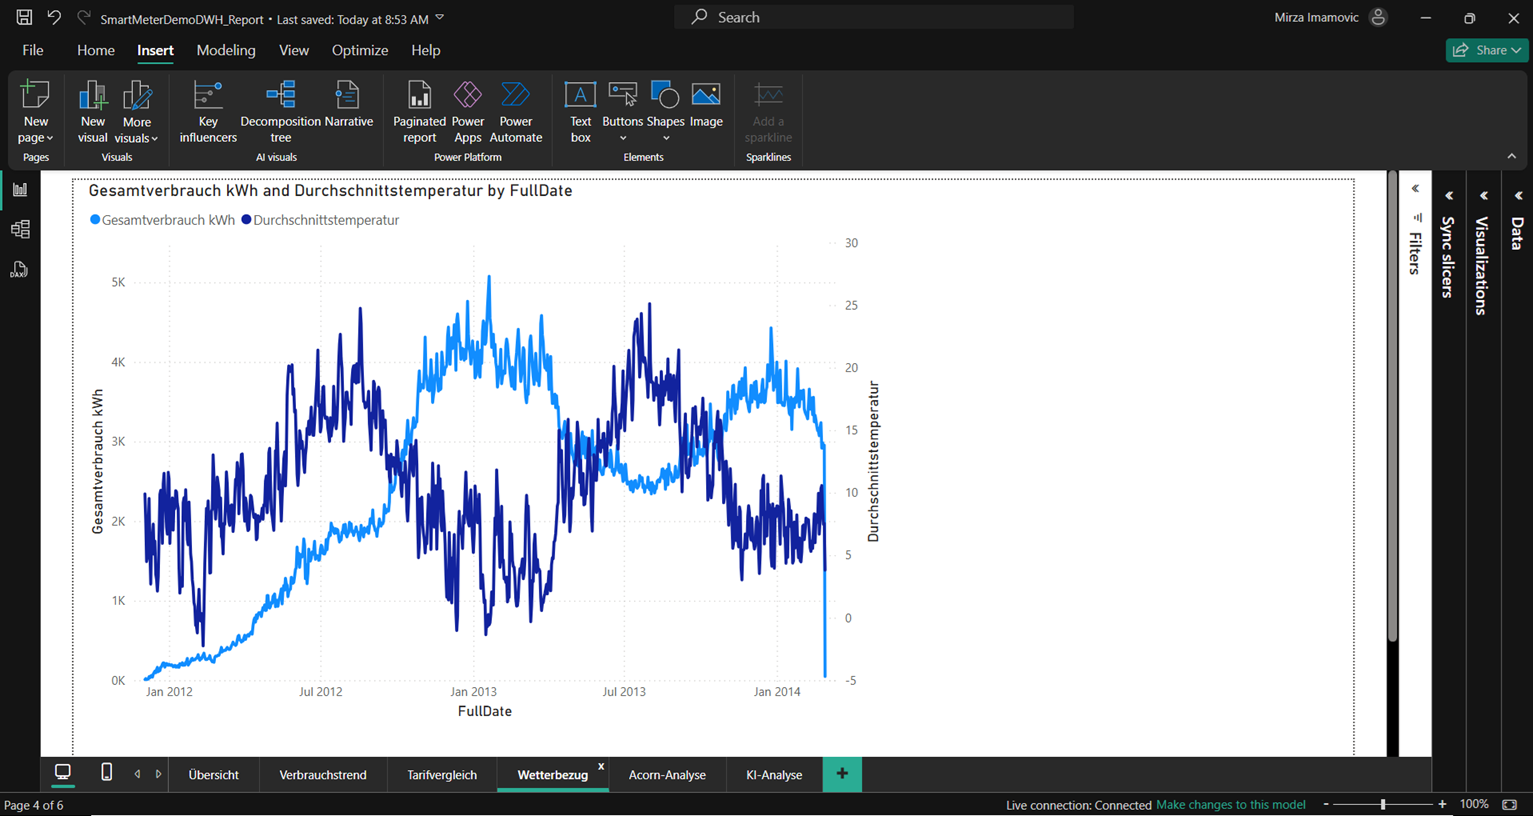

Layout of this report page (visuals, bound fields, positions):
{"tool":"powerbi","page":{"name":"Wetterbezug ","canvas":[1280,720],"ordinal":3},"visuals":[{"type":"lineChart","fields":{"Category":["Dim_Date.FullDate"],"Y":["Fact_Consumption.Gesamtverbrauch kWh"],"Y2":["Dim_Weather.Durchschnittstemperatur"]},"box":[32,0,802,544],"z":0}]}

Visuals, with their boxes on the page's 1280x720 design canvas (x1, y1, x2, y2). These are canvas units, not pixel positions in the 1533x816 screenshot, which may show the page scaled, cropped or inside an application window:
lineChart - Dim_Date.FullDate x Fact_Consumption.Gesamtverbrauch kWh: <box>32,0,834,544</box>
